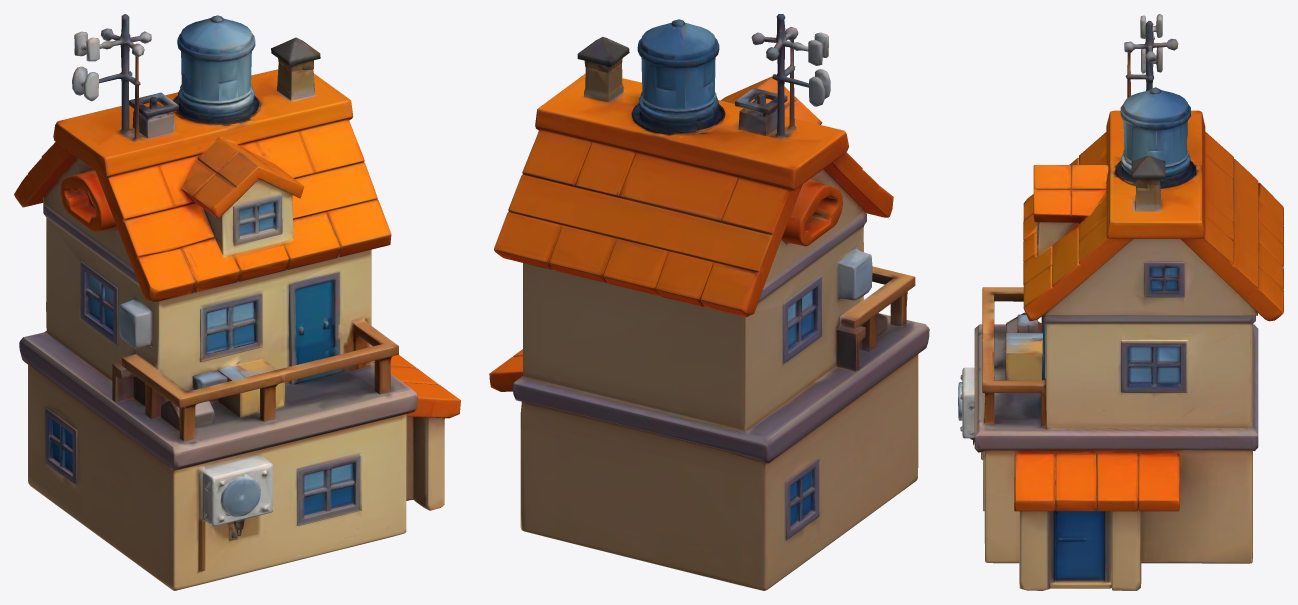
The model's file is props-building-2.glb.
3 views of the same model, side by side, from view 1: azimuth 30°, elevation 25°; view 2: azimuth 150°, elevation 25°; view 3: azimuth 270°, elevation 25° (orthographic). The views are drawn at different scales.
Bounding box in the file's own units: 0.6029 × 0.932 × 0.6005.
Materials: 1 (1 with a texture image).
